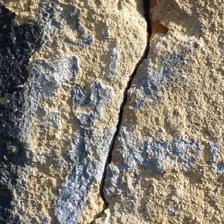Crack: (46, 3, 113, 218)
